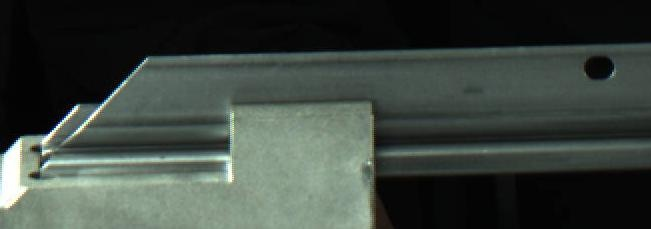cut: (28, 41, 222, 181)
holes: (581, 54, 617, 81)
